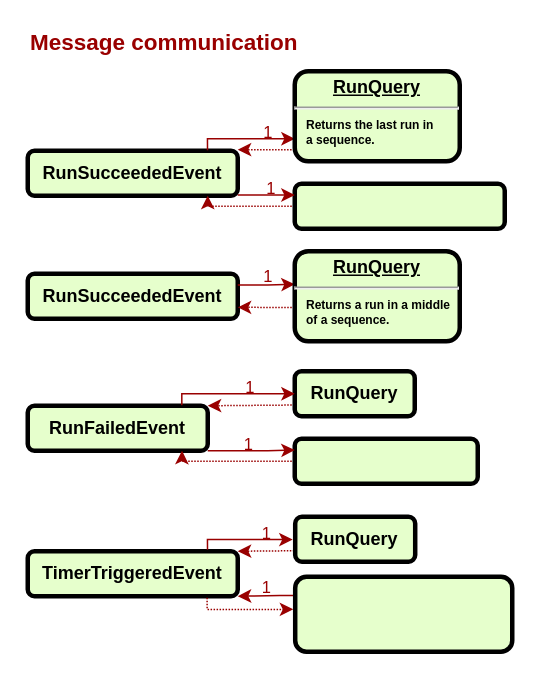
The diagram is 540 pixels wide and 680 high, and some of its shapes have lost their labels. The centre of each missing label's shape, as x and y in pixels:
"<not implemented>" belongs at point (385, 460).
"RunCreateCommand" belongs at point (399, 205).
"RunUpdateCommand Status: Succeeded" belongs at point (403, 613).
